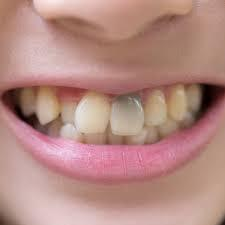Discoloration: (112, 94, 147, 138)
